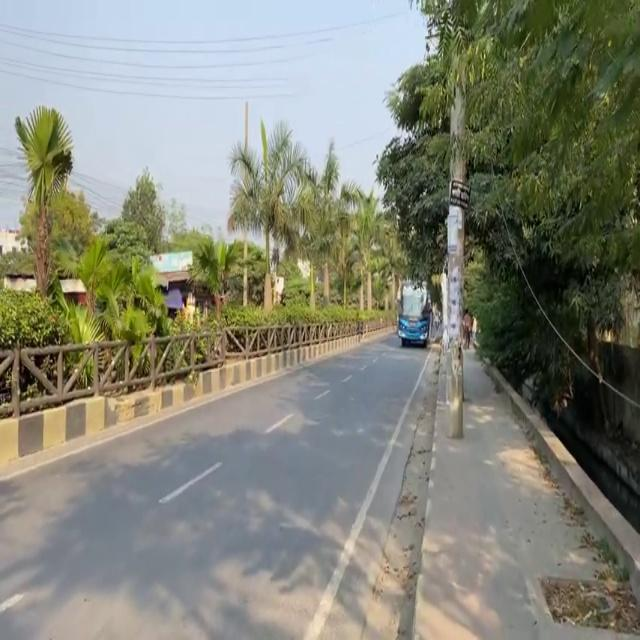Construction-barrier: (0, 311, 398, 478), (360, 340, 443, 639)
Garbage-bin: (461, 308, 473, 349)
Light-pole: (440, 77, 470, 439)
Pothole: (412, 337, 639, 639)
Traffic-cone: (395, 279, 433, 347)
